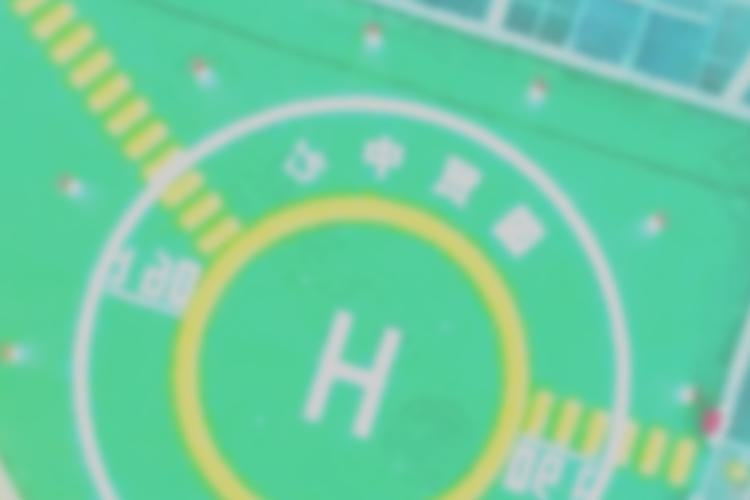Apron: (164, 195, 554, 500)
